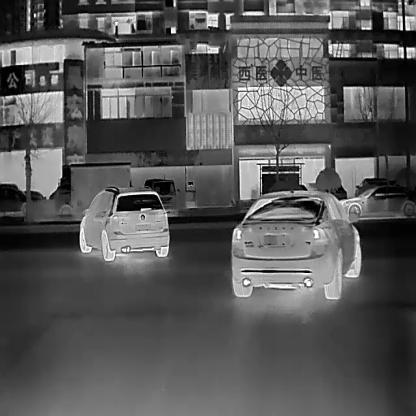car: (231, 190, 361, 298), (79, 184, 169, 260), (337, 185, 415, 219), (0, 186, 37, 219), (152, 178, 177, 214)
